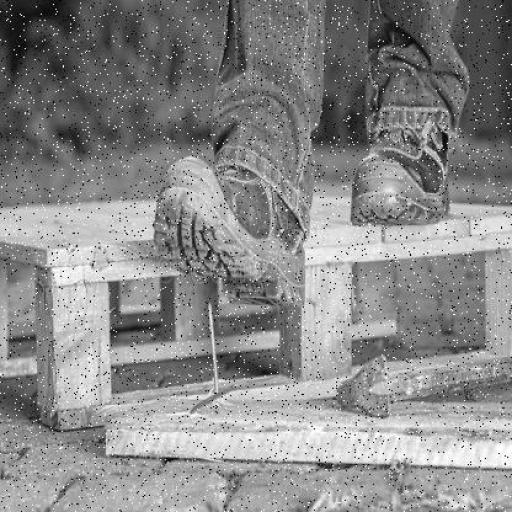safety_shoe: (157, 154, 309, 310), (353, 126, 452, 232)
